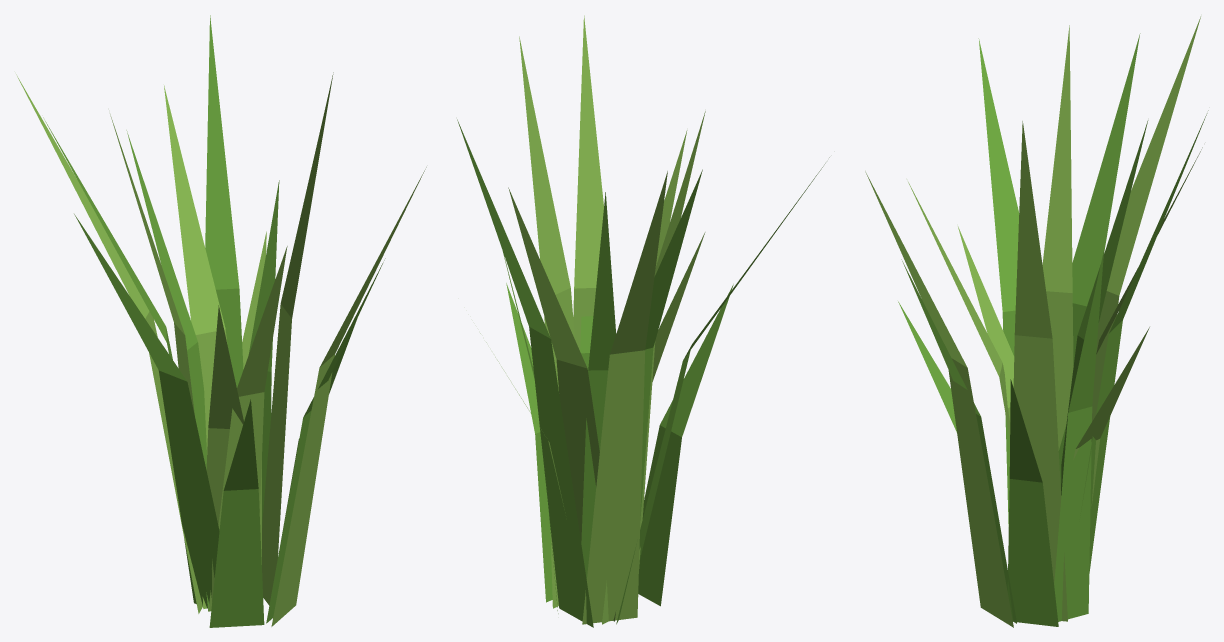
Rendered from grass_small.glb.
3 views of the same model, side by side, from view 1: azimuth 30°, elevation 25°; view 2: azimuth 150°, elevation 25°; view 3: azimuth 270°, elevation 25° (orthographic). The views are drawn at different scales.
Visible parts, largest first — view 1: Grass_Small; view 2: Grass_Small; view 3: Grass_Small.
Boxes of the visible parts, x1,y1,x2,y2 form: Grass_Small: (16, 15, 426, 627); Grass_Small: (457, 15, 829, 627); Grass_Small: (865, 16, 1208, 627).
Size of the model in its own units: 0.9783 by 1.62 by 0.9587.
